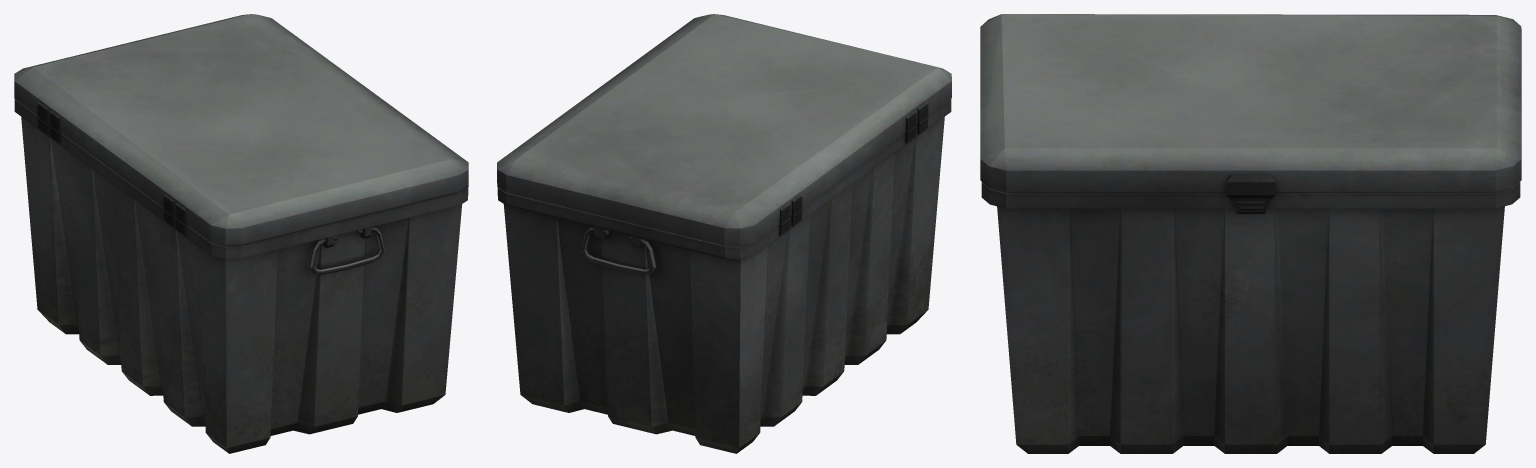
Rendered from Crate1.obj.
3 renders of one model, left to right at view 1: azimuth 30°, elevation 25°; view 2: azimuth 150°, elevation 25°; view 3: azimuth 270°, elevation 25°, orthographic. The views are drawn at different scales.
Parts seen in each view (by area): view 1: Crate11; view 2: Crate11; view 3: Crate11.
Boxes of the visible parts, x1,y1,x2,y2 form: Crate11: (14,14,468,453); Crate11: (497,14,951,453); Crate11: (980,14,1521,453).
Bounding box in the file's own units: 3.42 × 3.09 × 4.88.
Materials: 1 (1 with a texture image).
